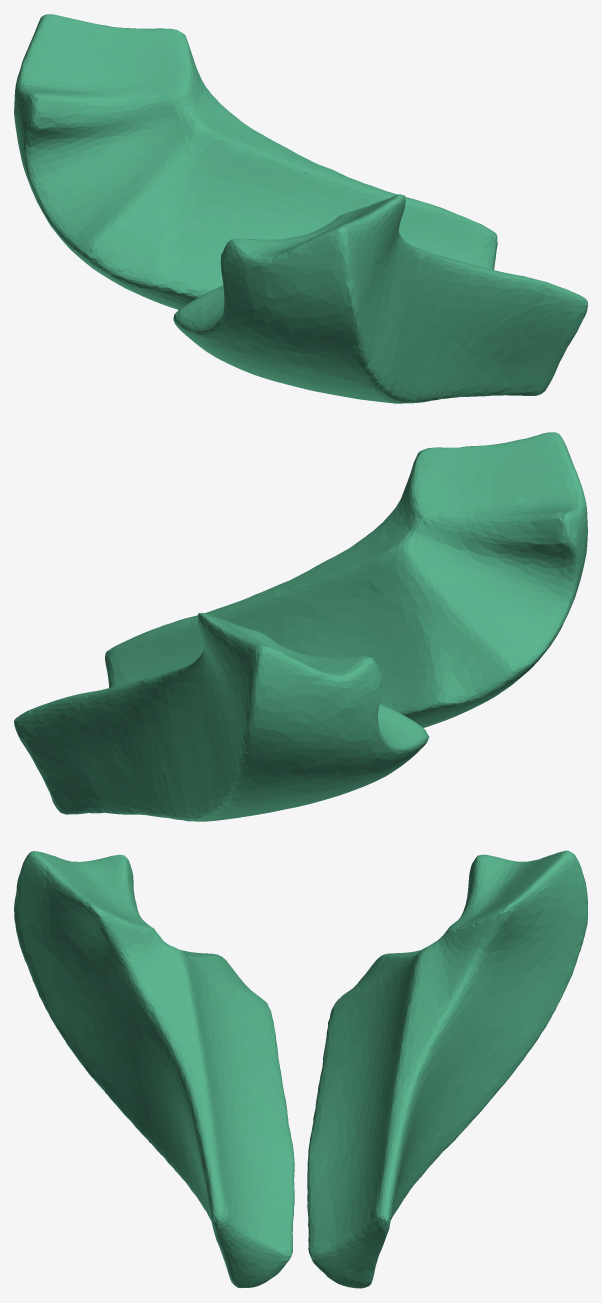
The picture shows the model from 3 angles, top to bottom: view 1: azimuth 30°, elevation 25°; view 2: azimuth 150°, elevation 25°; view 3: azimuth 270°, elevation 25°; orthographic projection. The views are drawn at different scales.
Parts seen in each view (by area): view 1: 993.obj; view 2: 993.obj; view 3: 993.obj.
Part boxes in pixels (box(x1,y1,x2,y2)): 993.obj: box(14, 14, 587, 403); 993.obj: box(14, 432, 587, 821); 993.obj: box(14, 850, 587, 1288).
Bounding box in the file's own units: 4470 × 3309 × 5789.
